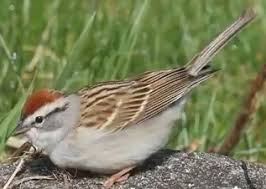hsparrow: (12, 8, 257, 180)
